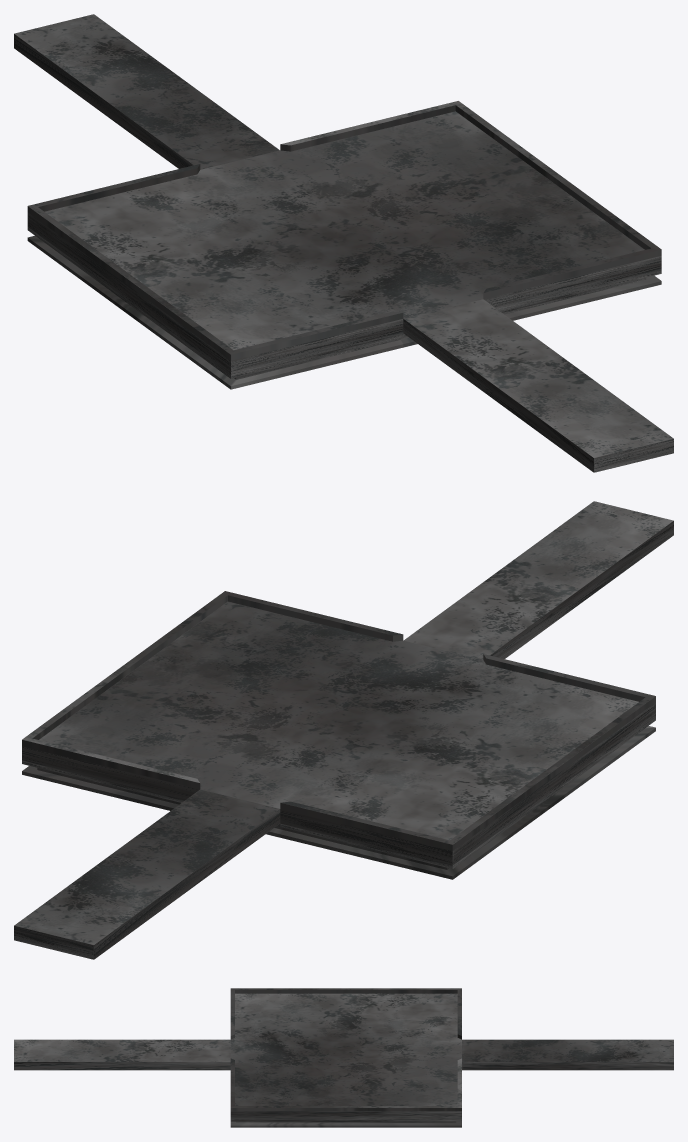
File: plataforma 1 refeita.fbx
The picture shows the model from 3 angles, top to bottom: view 1: azimuth 30°, elevation 25°; view 2: azimuth 150°, elevation 25°; view 3: azimuth 270°, elevation 25°; orthographic projection. The views are drawn at different scales.
Parts seen in each view (by area): view 1: Cube; view 2: Cube; view 3: Cube.
Boxes of the visible parts, box(x1,y1,x2,y2) form: Cube: box(14, 14, 673, 472); Cube: box(14, 501, 673, 959); Cube: box(14, 988, 673, 1127).
Size of the model in its own units: 2181 by 169 by 5085.
1 material, 1 textured.
